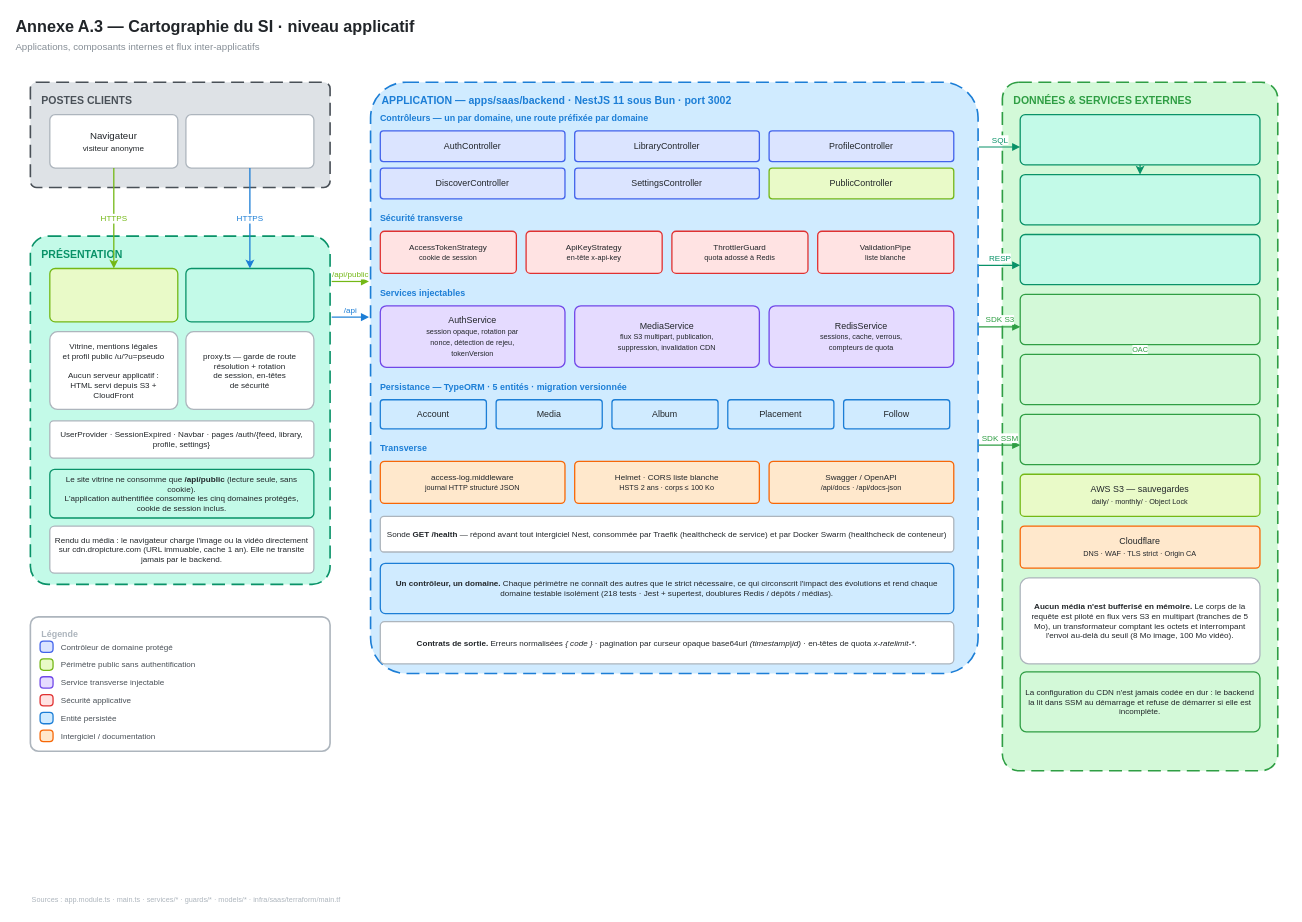
The diagram is 1302 pixels wide and 922 high, and some of its shapes have lost their labels. Each missing label, with the centre of its shape:
apps/saas/frontend Next.js 16 · port 3001: the point at 249,294
apps/website Next.js 16 · export statique: the point at 113,294
AWS CloudFront + WAF cdn.dropicture.com cache immuable 1 an: the point at 1139,379
AWS S3 — médias clé media/{ownerId}/{id}.{ext} versionné · AES-256: the point at 1139,319
AWS SSM Parameter Store /dropicture/cloudfront/* lu une seule fois, au démarrage: the point at 1139,439
Navigateur membre authentifié: the point at 249,141
PgBouncer mutualisation par transaction pool 25 · 1000 clients · port 6432: the point at 1139,139
PostgreSQL 18 5 tables · index partiels migrations TypeORM: the point at 1139,199
Redis 8 sessions · cache · verrous · quotas maxmemory 512 Mo, politique LRU: the point at 1139,259
